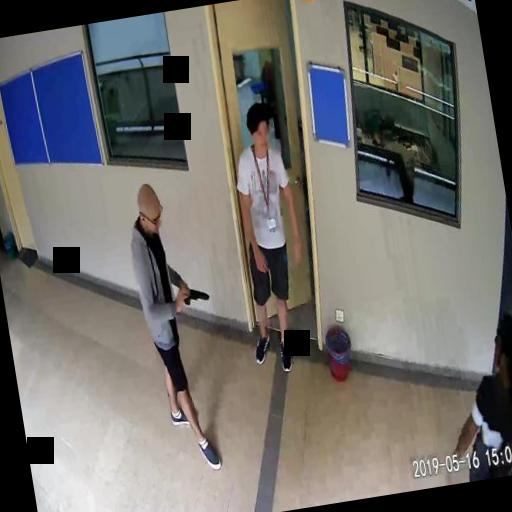Handgun: (178, 279, 208, 307)
